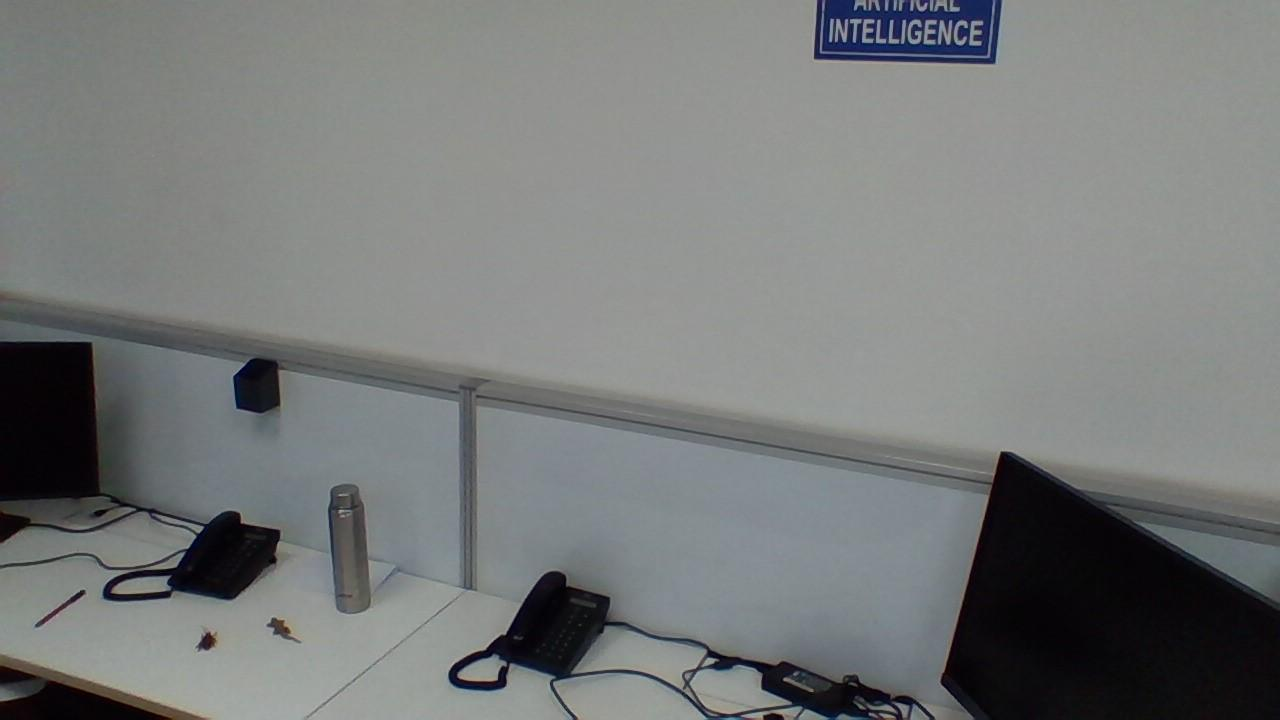cockroach: (190, 620, 225, 675)
lizard: (257, 612, 312, 659)
